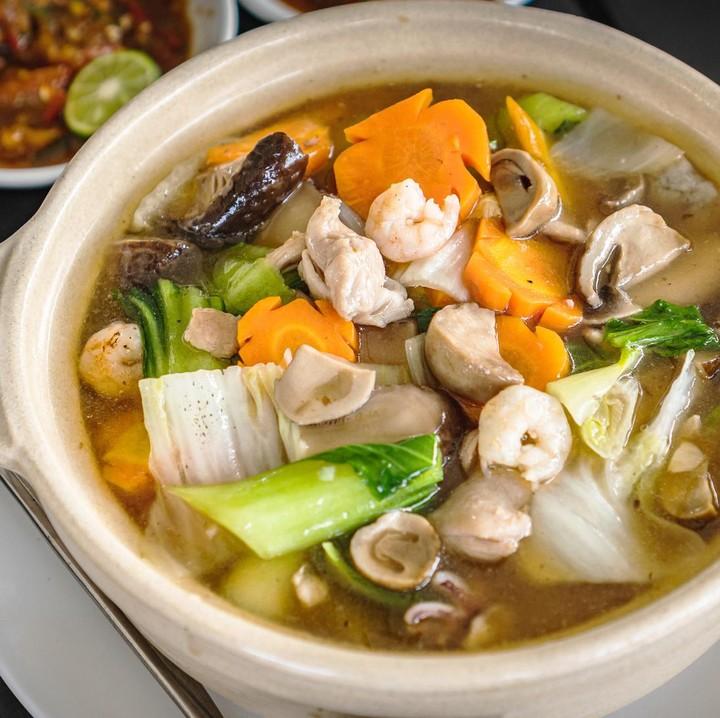buah_sayur_lainnya: (252, 482, 311, 545)
buah_sayur_vitA: (480, 239, 564, 309), (370, 120, 465, 180)
